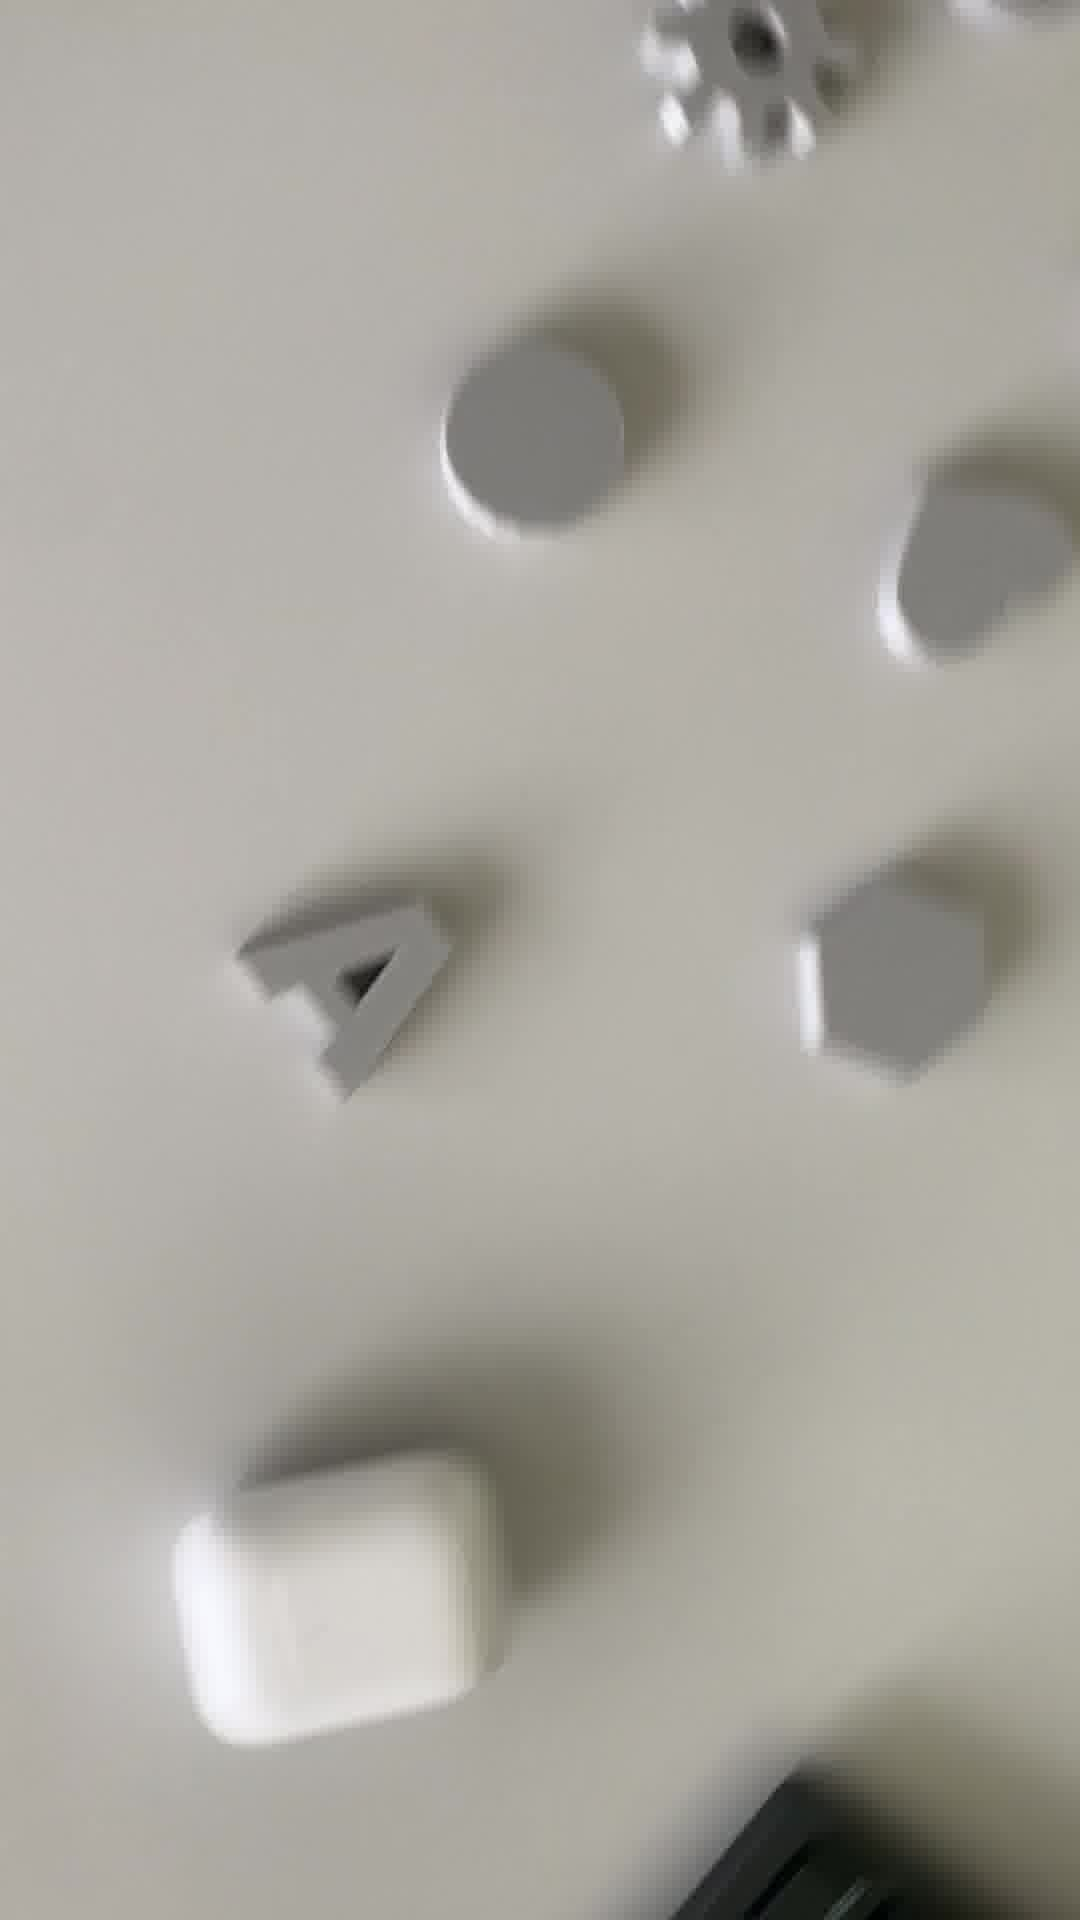Gray A-letter: (228, 880, 471, 1108)
Gray circle: (440, 344, 636, 545)
Gray gear: (624, 1, 880, 181)
Gray heart: (884, 481, 1080, 665)
Gray hexagon: (785, 877, 1014, 1079)
